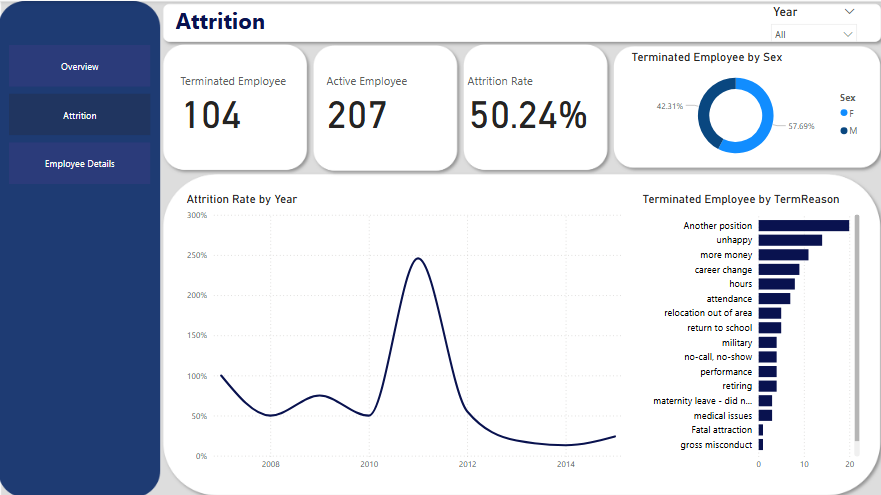

This screenshot's page, from the dashboard's own definition file:
{"tool":"powerbi","page":{"name":"Attrition","canvas":[1280,720],"ordinal":1},"visuals":[{"type":"slicer","fields":{"Values":["Date Table.Year"]},"box":[1103,0,144,59],"z":0},{"type":"textbox","box":[250.3,0,312.9,62.6],"z":1000},{"type":"cardVisual","fields":{"Data":["All Measure.Attrition Rate"]},"box":[664.2,86.8,203.9,123.2],"z":2000},{"type":"cardVisual","fields":{"Data":["All Measure.Terminated Employee"]},"box":[250.3,86.8,185.7,123.2],"z":3000},{"type":"cardVisual","fields":{"Data":["All Measure.Active Employee"]},"box":[460.3,86.8,179.7,123.2],"z":4000},{"type":"donutChart","fields":{"Y":["All Measure.Terminated Employee"],"Category":["HRDataset.Sex"]},"box":[906.5,70.7,353.3,169.6],"z":5000},{"type":"lineChart","fields":{"Y":["All Measure.Attrition Rate"],"Category":["Date Table.Year","Date Table.Month Name"]},"box":[266.5,274.6,640,409.8],"z":6000},{"type":"barChart","fields":{"Y":["All Measure.Terminated Employee"],"Category":["HRDataset.TermReason"]},"box":[922.6,274.6,323,409.8],"z":7000},{"type":"pageNavigator","box":[15.8,63.4,204.5,201.6],"z":7001}]}

Visuals, with their boxes on the page's 1280x720 design canvas (x1, y1, x2, y2). These are canvas units, not pixel positions in the 881x495 screenshot, which may show the page scaled, cropped or inside an application window:
slicer - Date Table.Year: 1103 0 1247 59
textbox: 250 0 563 63
cardVisual - All Measure.Attrition Rate: 664 87 868 210
cardVisual - All Measure.Terminated Employee: 250 87 436 210
cardVisual - All Measure.Active Employee: 460 87 640 210
donutChart - All Measure.Terminated Employee x HRDataset.Sex: 906 71 1260 240
lineChart - All Measure.Attrition Rate x Date Table.Year: 266 275 906 684
barChart - All Measure.Terminated Employee x HRDataset.TermReason: 923 275 1246 684
pageNavigator: 16 63 220 265
